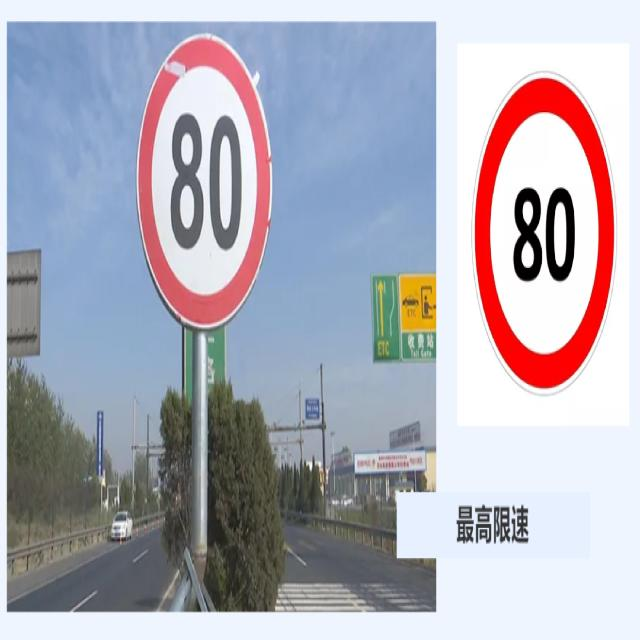speed limit 80: (473, 74, 616, 396), (136, 32, 273, 329)
